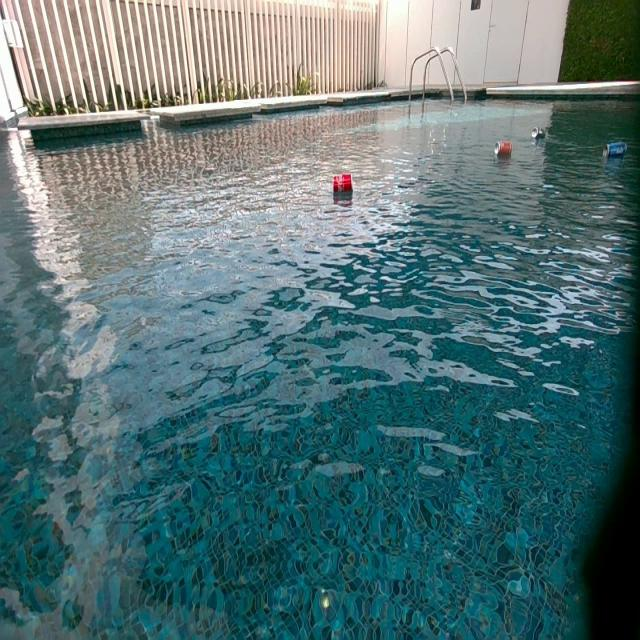Cans: (603, 140, 627, 159), (334, 174, 353, 192), (494, 140, 512, 159), (531, 128, 545, 141)
